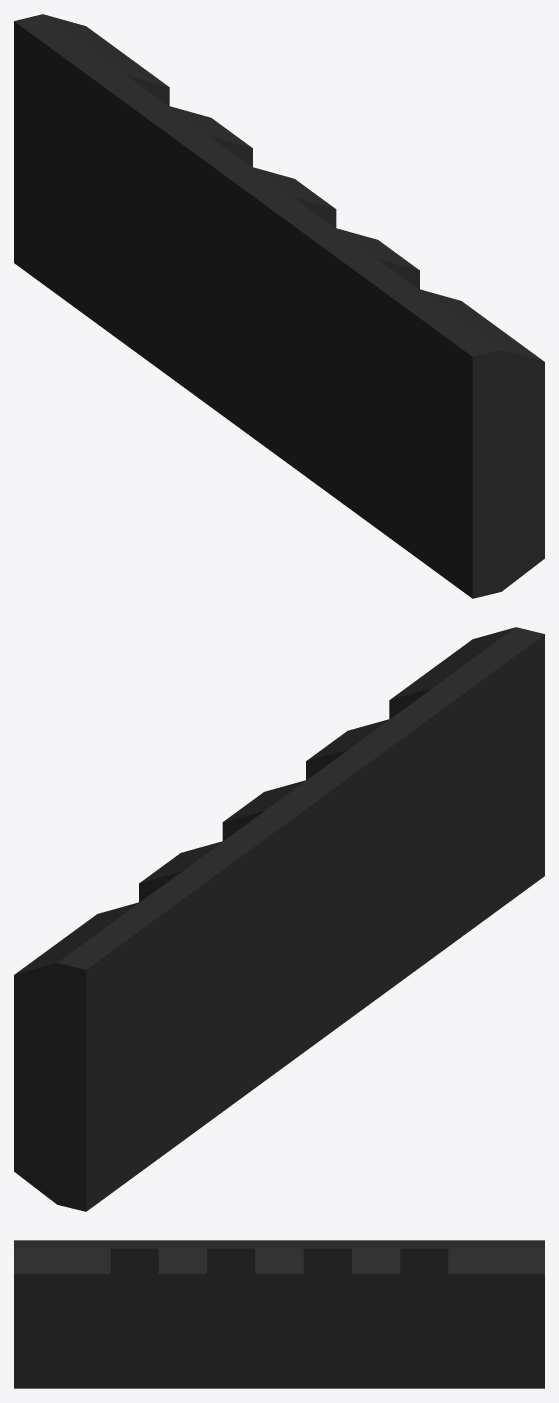
The model's file is Rail_Side.fbx.
The picture shows the model from 3 angles, top to bottom: view 1: azimuth 30°, elevation 25°; view 2: azimuth 150°, elevation 25°; view 3: azimuth 270°, elevation 25°; orthographic projection. The views are drawn at different scales.
Visible parts, largest first — view 1: Rail_Side; view 2: Rail_Side; view 3: Rail_Side.
Boxes of the visible parts, x1,y1,x2,y2 form: Rail_Side: (14, 14, 544, 598); Rail_Side: (14, 627, 544, 1211); Rail_Side: (14, 1240, 544, 1388).
Size of the model in its own units: 0.05 by 0.16 by 0.55.
